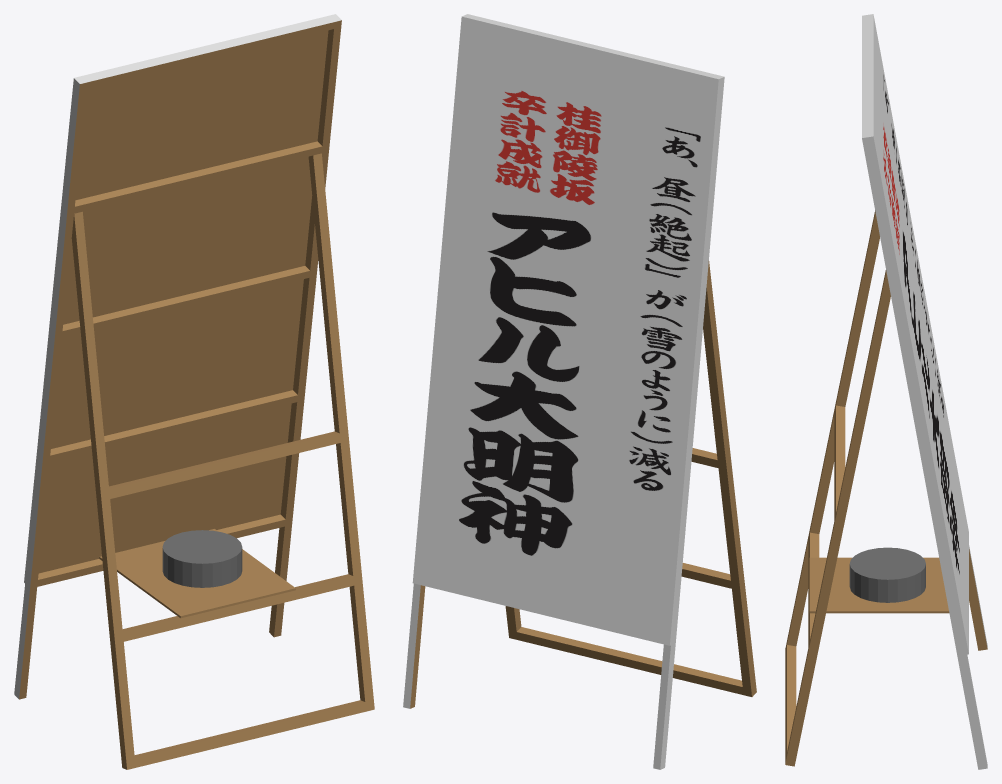
File: kanban2.glb
3 renders of one model, left to right at view 1: azimuth 30°, elevation 25°; view 2: azimuth 150°, elevation 25°; view 3: azimuth 270°, elevation 25°, orthographic. The views are drawn at different scales.
Parts seen in each view (by area): view 1: サブロク看板1000; view 2: サブロク看板1000; view 3: サブロク看板1000.
Boxes of the visible parts, <box> form: サブロク看板1000: <box>14,14,374,769</box>; サブロク看板1000: <box>403,14,756,769</box>; サブロク看板1000: <box>785,14,987,769</box>.
Size of the model in its own units: 0.91 by 2.2 by 0.636.
4 materials, 1 textured.
